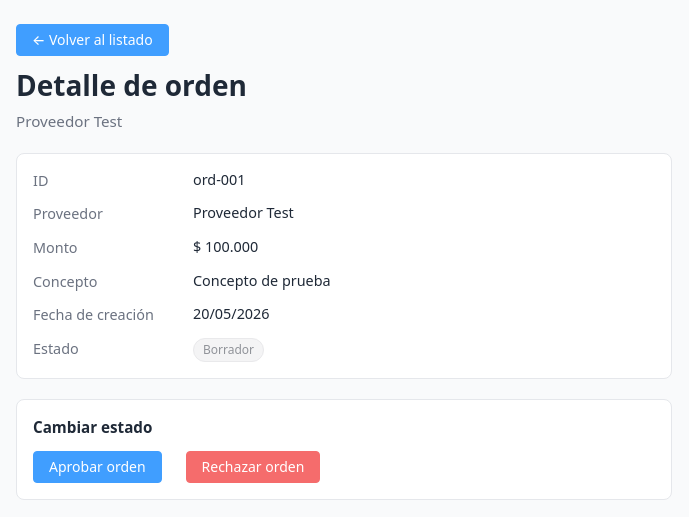
OrderDetailView › actualiza el estado tras confirmar en el diálogo
The image size is (689, 517).
Click the button "Aprobar orden" at (97, 467), box x1=33 y1=451 x2=162 y2=483
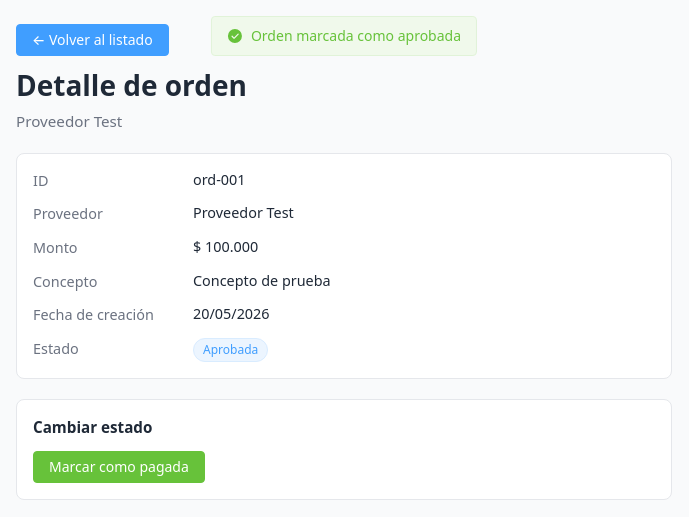
Result: the text "Aprobada" is shown at x1=203 y1=344 x2=258 y2=356
